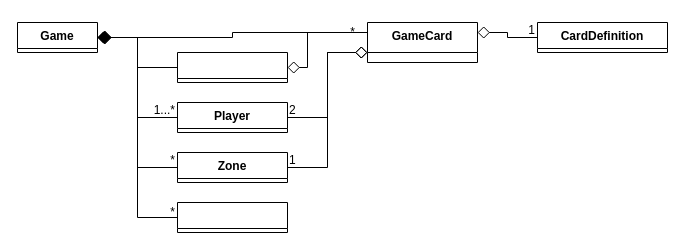
The diagram is 685 pixels wide and 250 high, and some of its shapes have lost their labels. Here are the shapes that lost their labels. From the top down, the box of each, then its label:
(176, 52, 288, 82): CardLayout
(176, 202, 288, 232): GameAction
